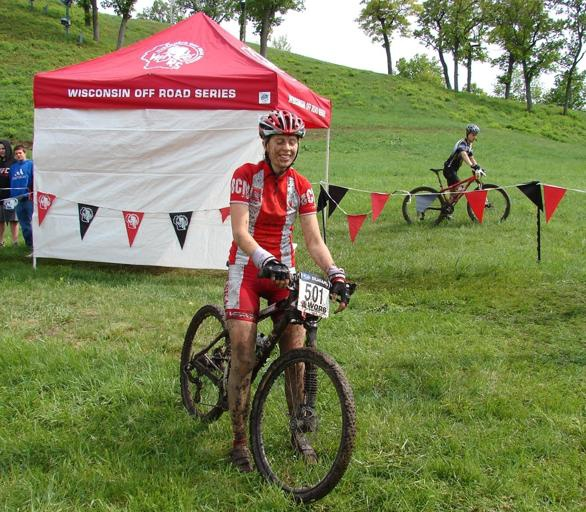non-vehicle: (179, 266, 356, 501), (401, 163, 512, 228)
